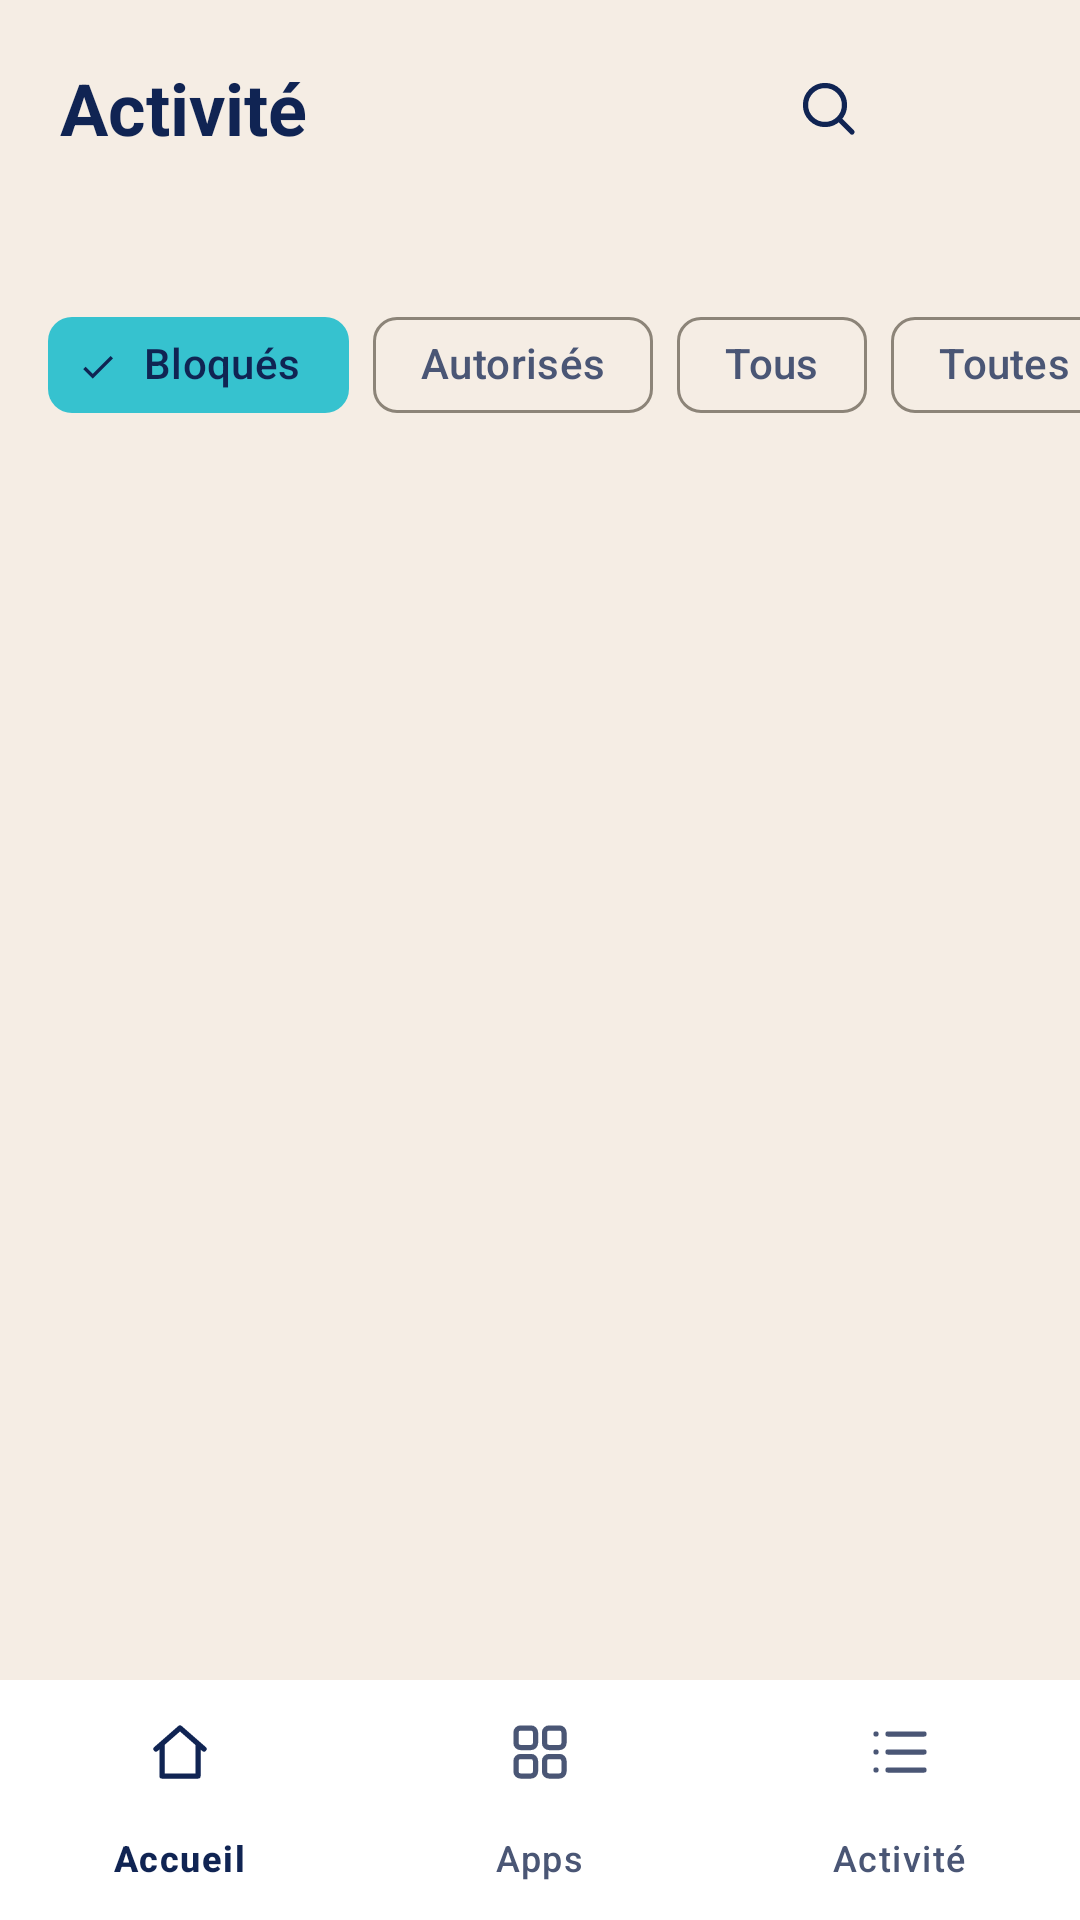

Point at icon controls on the screen. Image size 1080*1920, points as (x=x, y=y).
Rechercher dans le journal: (x=829, y=109)
